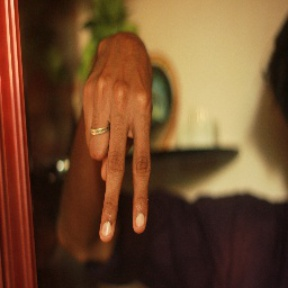Y: (72, 62, 157, 250)
